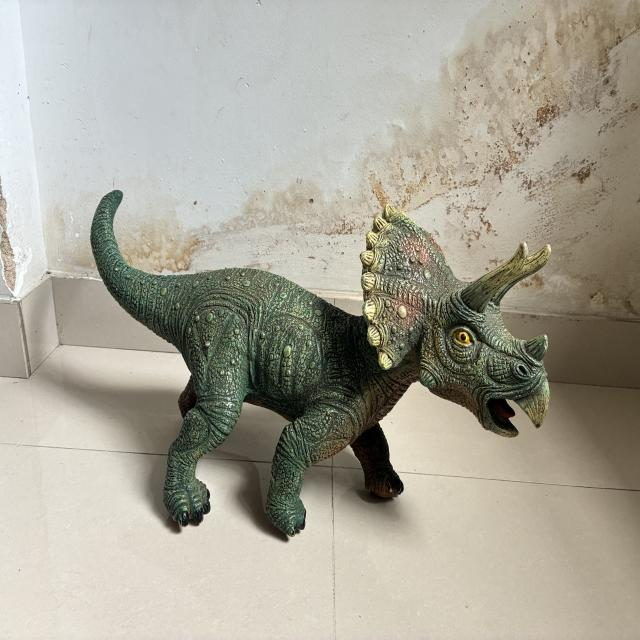dinosaur: (91, 190, 550, 536)
